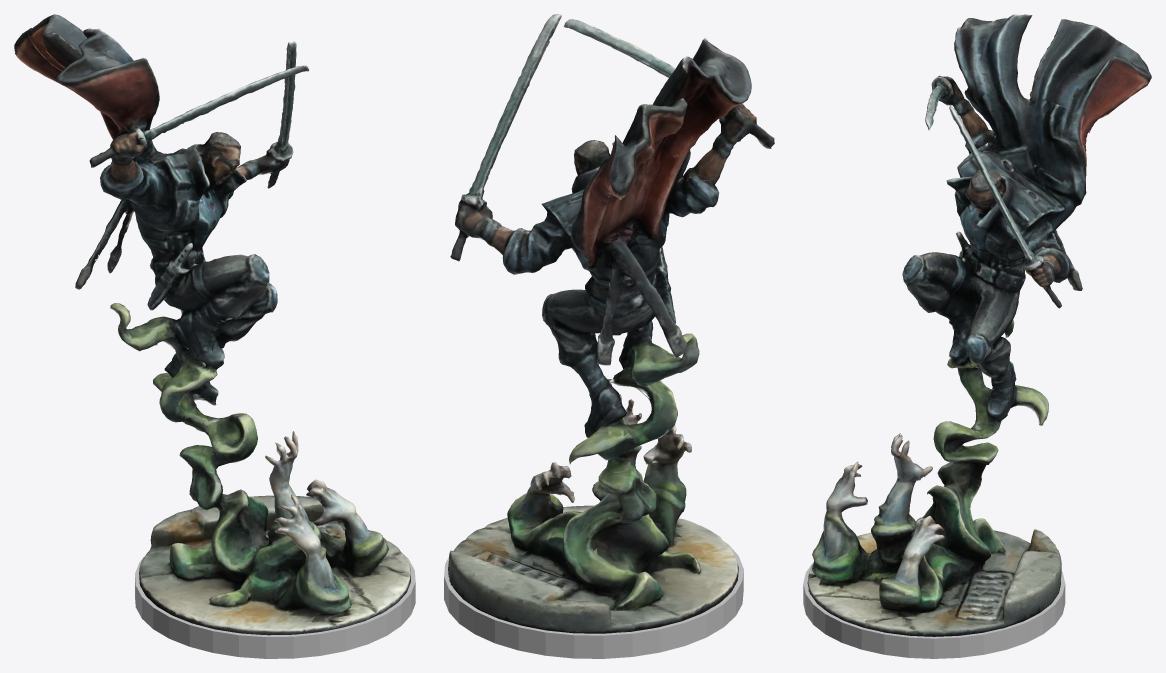
3 renders of one model, left to right at view 1: azimuth 30°, elevation 25°; view 2: azimuth 150°, elevation 25°; view 3: azimuth 270°, elevation 25°, orthographic. The views are drawn at different scales.
Visible parts, largest first — view 1: Blade, default; view 2: Blade, default; view 3: Blade, default.
Part boxes in pixels (<box>): Blade: <box>14,14,410,635</box>; default: <box>135,552,415,658</box>; Blade: <box>448,14,774,633</box>; default: <box>444,541,743,658</box>; Blade: <box>807,14,1151,636</box>; default: <box>803,562,1065,658</box>.
Bounding box in the file's own units: 1.7 × 3.08 × 1.83.
2 materials, 1 textured.
